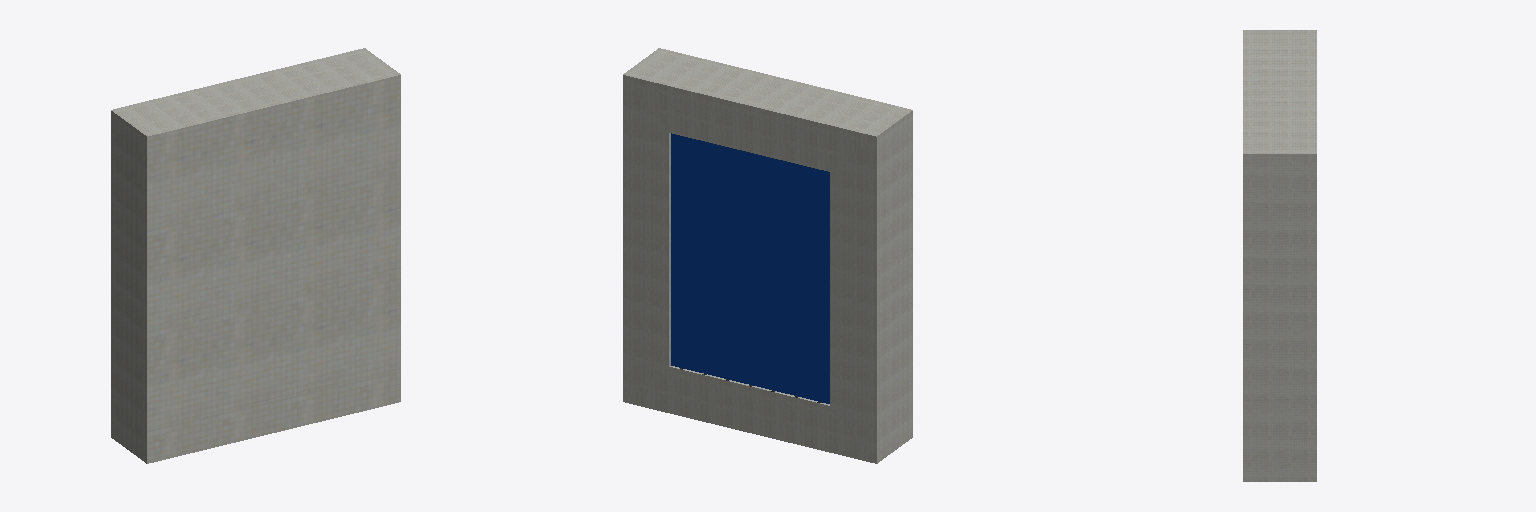
3 views of the same model, side by side, from view 1: azimuth 30°, elevation 25°; view 2: azimuth 150°, elevation 25°; view 3: azimuth 270°, elevation 25° (orthographic).
Parts seen in each view (by area): view 1: Pool_Exterior_pool_exterior_mesh; view 2: Pool_Exterior_pool_exterior_mesh, Water_water_mesh; view 3: Pool_Exterior_pool_exterior_mesh.
Boxes of the visible parts, <box> form: Pool_Exterior_pool_exterior_mesh: <box>111,48,400,463</box>; Pool_Exterior_pool_exterior_mesh: <box>623,48,912,463</box>; Water_water_mesh: <box>671,133,829,403</box>; Pool_Exterior_pool_exterior_mesh: <box>1243,30,1316,481</box>.
Size of the model in its own units: 26 by 32 by 6.49.
Materials: 2 (1 with a texture image).